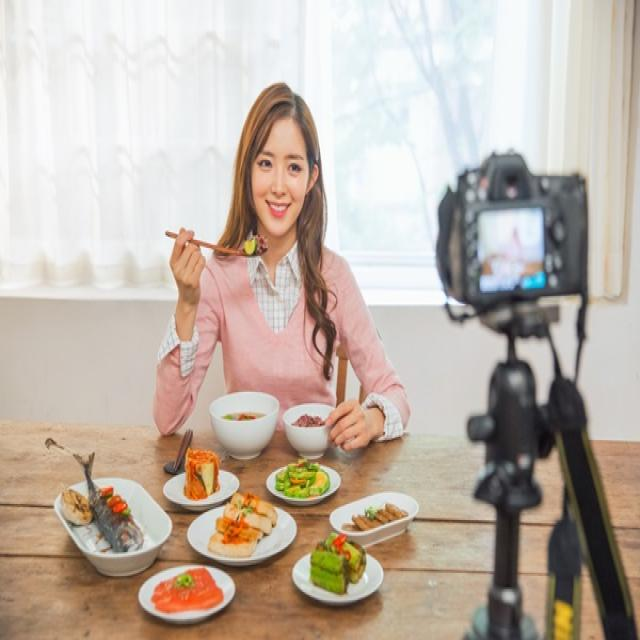eating-person: (134, 72, 426, 506)
